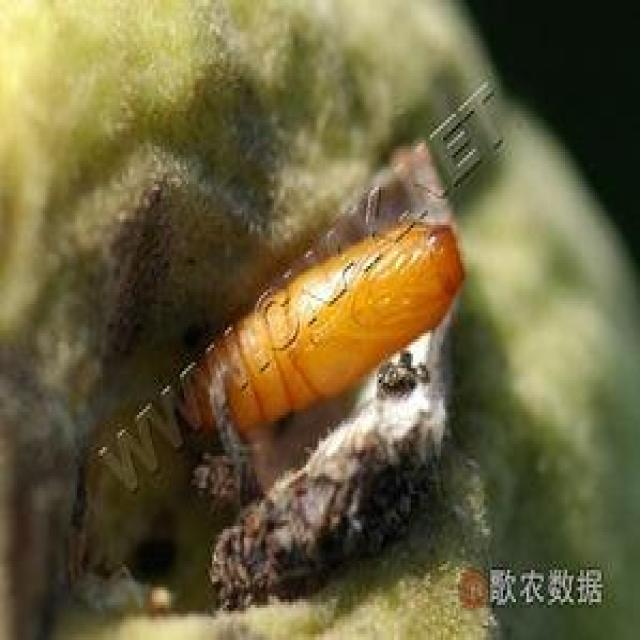peach borer: (110, 215, 466, 519)
